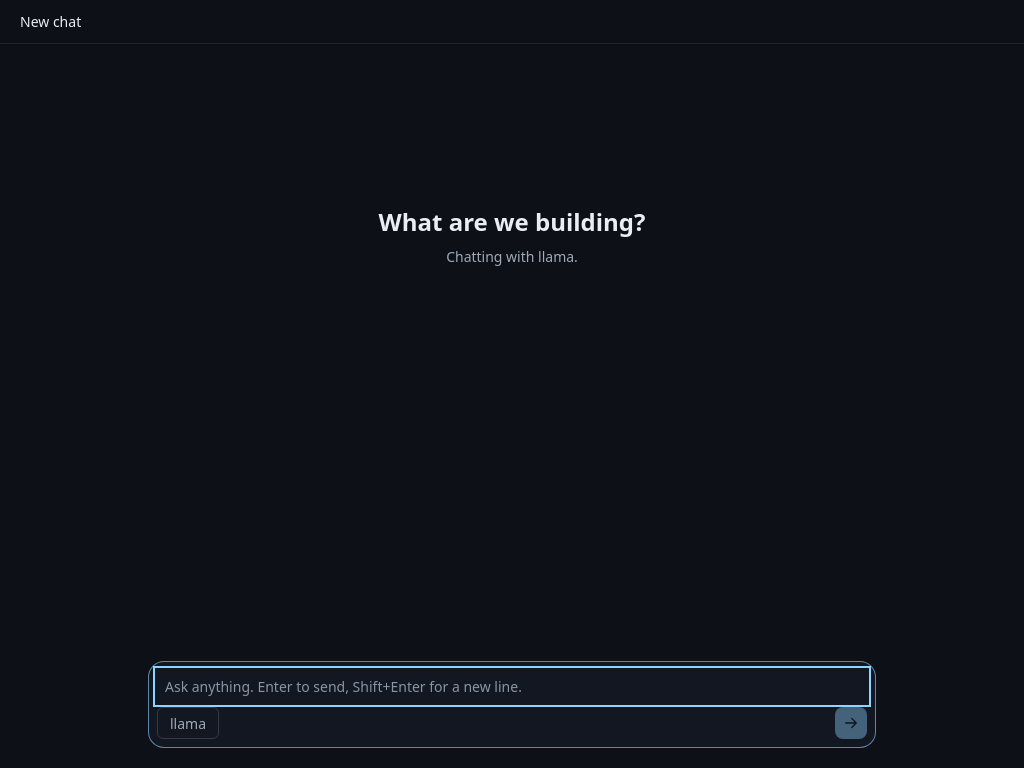
Test case: Chat › model links do not navigate and images do not load
Type "x" into the text box named "Message". click: (512, 686)
box: [157, 670, 867, 703]
Then press Enter
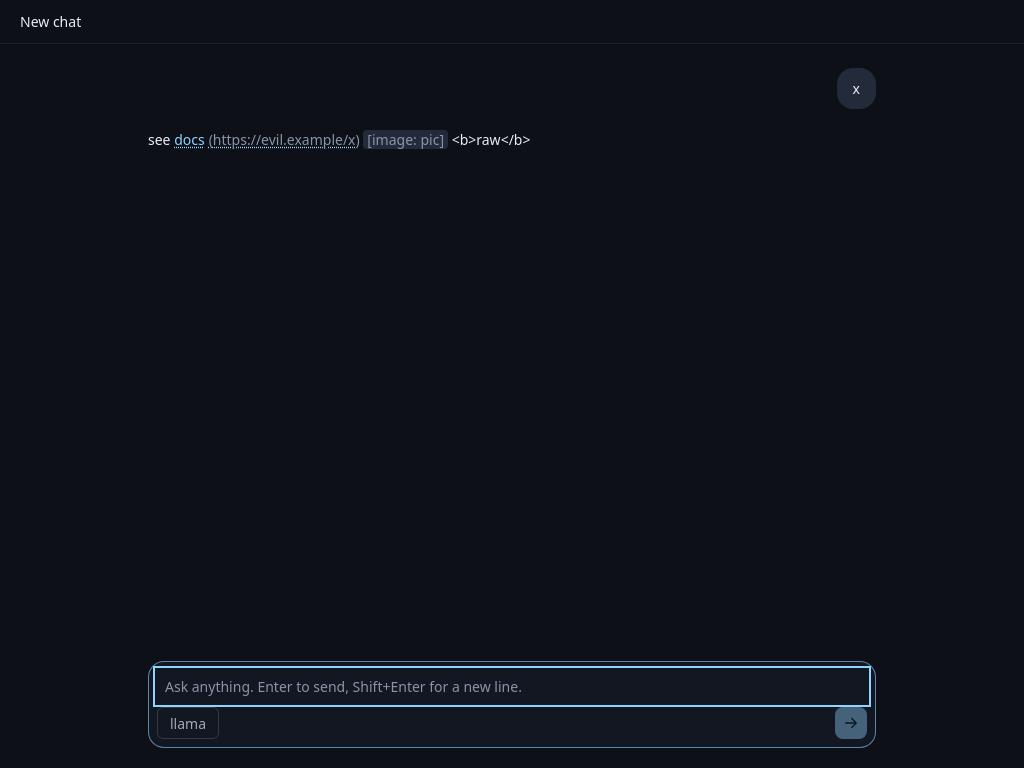
expect the text "docs" is shown: met, box [174, 130, 205, 149]
expect the text "(https://evil.example/x)" is shown: met, box [209, 130, 360, 149]
